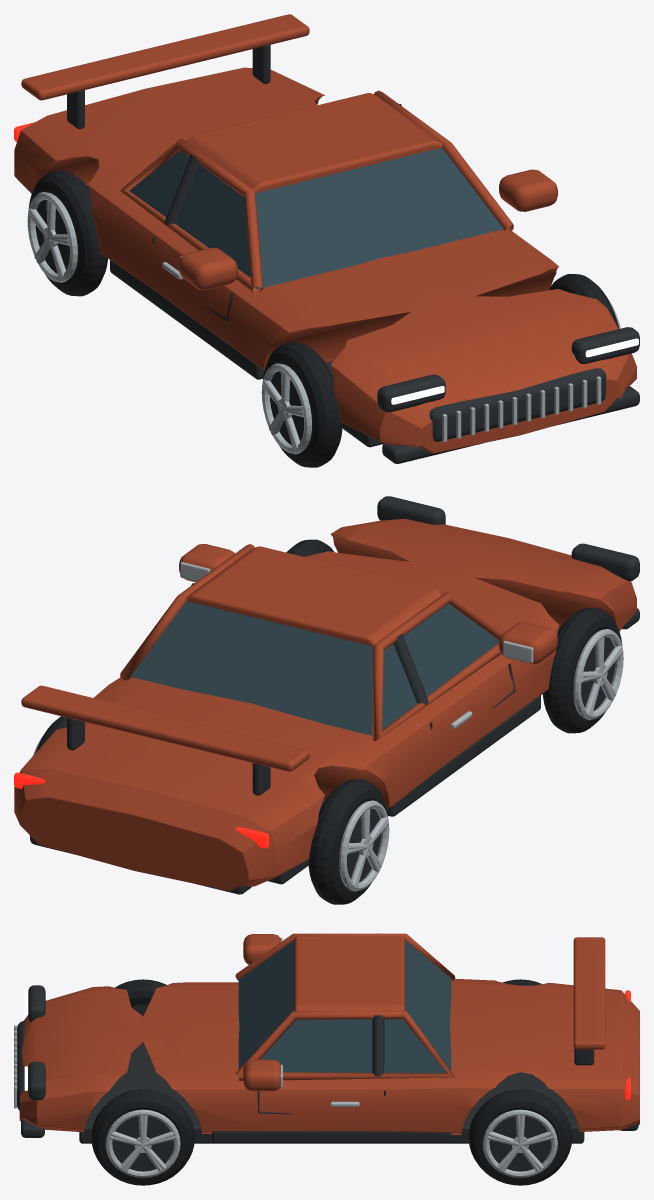
Rendered from adura-gt.glb.
3 renders of one model, top to bottom at view 1: azimuth 30°, elevation 25°; view 2: azimuth 150°, elevation 25°; view 3: azimuth 270°, elevation 25°, orthographic. The views are drawn at different scales.
Visible parts, largest first — view 1: Adura burnt copper, Smoked automotive glazing, Grille and trim, Tyre rubber, Tyre rubber.001, Satin alloy.002, Satin alloy.001, Satin alloy, Tyre rubber.002, Grille and trim.002, Grille and trim.001, Warm LED signature; view 2: Adura burnt copper, Smoked automotive glazing, Grille and trim, Tyre rubber.001, Tyre rubber, Satin alloy.001, Satin alloy.002, Satin alloy, Grille and trim.001, Grille and trim.002, Red taillight lens; view 3: Adura burnt copper, Smoked automotive glazing, Grille and trim, Tyre rubber.002, Tyre rubber.003, Satin alloy.003, Satin alloy.004, Grille and trim.003, Grille and trim.004, Tyre rubber, Satin alloy.
Boxes of the visible parts, x1,y1,x2,y2 form: Adura burnt copper: (14,14,636,453); Smoked automotive glazing: (129,147,508,289); Grille and trim: (67,44,639,463); Tyre rubber: (263,342,342,467); Tyre rubber.001: (28,170,107,296); Satin alloy.002: (27,192,77,282); Satin alloy.001: (261,363,311,454); Satin alloy: (162,255,601,442); Tyre rubber.002: (549,274,619,328); Grille and trim.002: (35,200,69,273); Grille and trim.001: (270,371,304,445); Warm LED signature: (391,338,638,404); Adura burnt copper: (14,519,636,890); Smoked automotive glazing: (130,601,499,735); Grille and trim: (30,496,639,894); Tyre rubber.001: (308,779,387,904); Tyre rubber: (543,608,622,733); Satin alloy.001: (573,629,623,719); Satin alloy.002: (339,800,389,891); Satin alloy: (180,562,533,728); Grille and trim.001: (581,637,615,710); Grille and trim.002: (347,808,381,882); Red taillight lens: (14,772,269,848); Adura burnt copper: (19,933,639,1134); Smoked automotive glazing: (238,940,451,1073); Grille and trim: (17,933,638,1143); Tyre rubber.002: (91,1089,194,1185); Tyre rubber.003: (468,1089,572,1185); Satin alloy.003: (105,1109,180,1177); Satin alloy.004: (483,1109,557,1177); Grille and trim.003: (112,1116,173,1171); Grille and trim.004: (489,1116,551,1171); Tyre rubber: (115,979,166,1006); Satin alloy: (14,937,359,1108).
Size of the model in its own units: 1.34 by 0.6947 by 2.48.
